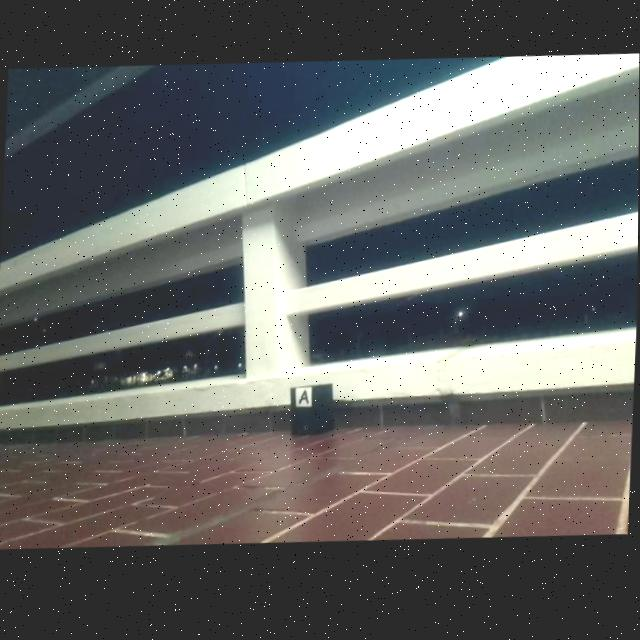A: (298, 393, 311, 408)
